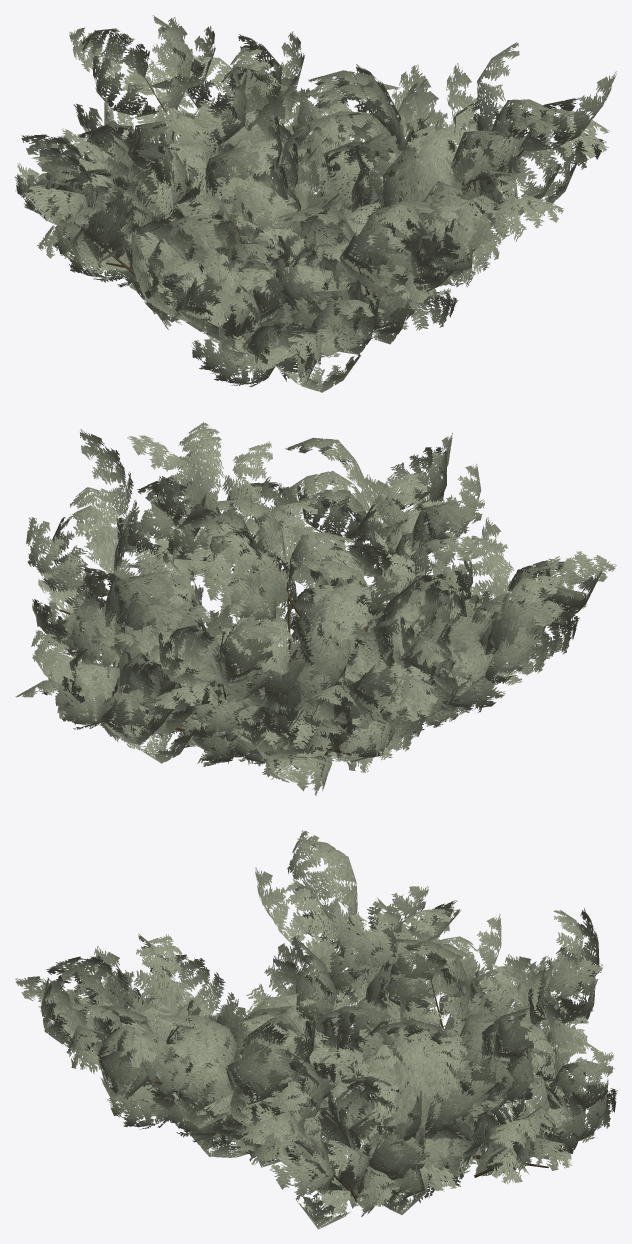
The model's file is SM_CN_Sage_A.fbx.
3 views of the same model, one above another, from view 1: azimuth 30°, elevation 25°; view 2: azimuth 150°, elevation 25°; view 3: azimuth 270°, elevation 25° (orthographic). The views are drawn at different scales.
Parts seen in each view (by area): view 1: SM_CN_Sage_A; view 2: SM_CN_Sage_A; view 3: SM_CN_Sage_A.
Boxes of the visible parts, x1=… form: SM_CN_Sage_A: x1=14, y1=15, x2=617, y2=392; SM_CN_Sage_A: x1=15, y1=422, x2=616, y2=795; SM_CN_Sage_A: x1=15, y1=830, x2=617, y2=1229.
Bounding box in the file's own units: 1 × 0.9366 × 0.45.
